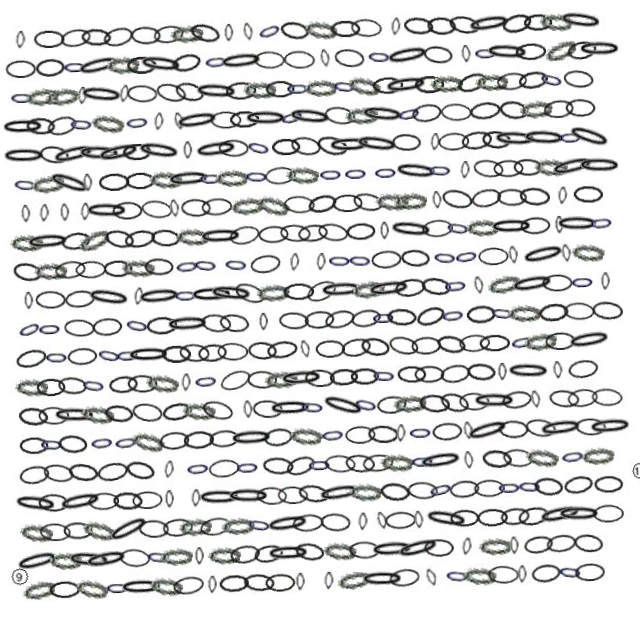chain: (98, 505, 146, 540), (571, 130, 619, 162), (50, 159, 98, 191), (316, 391, 364, 422), (460, 422, 508, 450), (84, 45, 131, 72), (6, 538, 53, 565), (387, 538, 434, 565), (56, 133, 103, 159), (101, 133, 148, 159), (554, 162, 601, 188), (522, 249, 569, 275), (416, 510, 463, 536), (567, 17, 614, 42), (393, 46, 440, 71), (141, 133, 188, 158), (86, 278, 133, 303), (51, 481, 98, 506), (530, 510, 577, 535), (146, 47, 193, 71), (359, 134, 406, 158), (510, 279, 557, 303), (565, 337, 612, 361), (6, 482, 53, 506), (75, 540, 122, 564), (551, 44, 588, 74), (78, 218, 115, 248), (293, 105, 340, 128), (476, 18, 522, 41), (86, 76, 132, 99), (181, 105, 227, 128), (366, 105, 412, 128), (398, 163, 444, 186), (391, 221, 437, 244), (209, 279, 255, 302), (413, 453, 459, 476), (311, 482, 357, 505), (258, 511, 304, 534), (201, 77, 247, 99), (391, 77, 437, 99), (199, 135, 245, 157), (367, 280, 413, 302), (534, 425, 580, 447), (58, 541, 104, 563), (233, 277, 268, 305), (305, 277, 340, 305), (227, 48, 273, 69), (493, 48, 539, 69), (498, 135, 544, 156), (527, 135, 573, 156), (216, 364, 251, 391), (259, 191, 295, 217), (126, 423, 162, 449), (74, 510, 110, 536), (82, 136, 128, 156), (137, 281, 183, 301), (197, 394, 232, 420), (354, 75, 390, 100), (582, 165, 627, 185), (487, 278, 523, 303), (504, 368, 549, 388), (49, 397, 94, 417), (584, 426, 629, 446), (12, 568, 48, 593), (162, 75, 196, 101), (463, 75, 497, 101), (321, 133, 355, 159), (414, 307, 448, 333), (435, 394, 469, 420), (279, 452, 313, 478), (65, 569, 101, 593), (327, 569, 363, 593), (586, 49, 631, 68), (250, 107, 295, 126), (171, 165, 216, 184), (88, 194, 133, 213), (28, 223, 73, 242), (558, 223, 603, 242), (320, 281, 365, 300), (165, 310, 210, 329), (277, 368, 322, 387), (469, 397, 514, 416), (225, 426, 270, 445), (220, 484, 265, 503), (550, 513, 595, 532), (362, 542, 407, 561), (444, 191, 478, 216), (198, 17, 231, 42), (181, 75, 214, 100), (106, 220, 139, 245), (386, 336, 419, 361), (119, 452, 152, 477), (111, 18, 145, 42), (457, 18, 491, 42), (355, 192, 389, 216), (319, 221, 353, 245), (323, 308, 357, 332), (13, 337, 47, 361), (7, 108, 52, 126), (7, 137, 52, 155), (333, 137, 378, 155), (201, 224, 246, 242), (492, 224, 537, 242), (190, 282, 235, 300), (125, 340, 170, 358), (265, 398, 310, 416), (191, 485, 236, 503), (258, 543, 303, 561), (110, 572, 155, 590), (351, 572, 396, 590), (97, 105, 132, 128), (288, 18, 321, 42), (510, 18, 543, 42), (52, 105, 85, 129), (310, 192, 343, 216), (13, 250, 46, 274), (434, 337, 467, 361), (520, 424, 554, 447), (313, 19, 348, 41), (52, 77, 87, 99), (35, 164, 70, 186), (352, 280, 387, 302), (522, 338, 557, 360), (143, 367, 178, 389), (77, 396, 112, 418), (520, 454, 555, 476), (12, 512, 47, 534), (140, 570, 175, 592), (179, 47, 212, 70), (330, 105, 363, 128), (295, 134, 328, 157), (477, 163, 510, 186), (474, 192, 507, 215), (231, 221, 264, 244), (358, 337, 391, 360), (128, 395, 161, 418), (37, 453, 70, 476), (91, 453, 124, 476), (291, 482, 324, 505), (505, 105, 537, 128), (421, 279, 453, 302), (200, 308, 232, 331), (339, 337, 371, 360), (62, 453, 94, 476), (557, 482, 589, 505), (286, 540, 318, 563), (69, 19, 102, 41), (570, 77, 603, 99), (144, 193, 177, 215), (126, 222, 159, 244), (251, 251, 284, 273), (591, 309, 624, 331), (437, 367, 470, 389), (415, 396, 448, 418), (545, 396, 578, 418), (13, 454, 46, 476), (192, 512, 225, 534), (510, 512, 543, 534), (163, 570, 196, 592), (265, 17, 294, 42), (15, 307, 44, 332), (33, 77, 67, 98), (526, 106, 560, 127), (234, 193, 268, 214), (573, 251, 607, 272), (285, 425, 319, 446), (315, 541, 349, 562), (342, 48, 374, 70), (431, 48, 463, 70), (575, 48, 607, 70), (44, 135, 76, 157), (63, 222, 95, 244), (218, 309, 250, 331), (350, 309, 382, 331), (100, 396, 132, 418), (158, 396, 190, 418), (373, 483, 405, 505), (527, 483, 559, 505), (245, 541, 277, 563), (515, 541, 547, 563), (565, 541, 597, 563), (545, 76, 574, 100), (250, 134, 279, 158), (162, 19, 195, 40), (466, 135, 499, 156), (522, 193, 555, 214), (177, 338, 210, 359), (565, 367, 598, 388), (497, 454, 530, 475), (549, 20, 583, 40), (539, 165, 573, 185), (379, 194, 413, 214), (123, 252, 157, 272), (257, 281, 291, 301), (262, 368, 296, 388), (179, 397, 213, 417), (375, 455, 409, 475), (576, 455, 610, 475), (214, 513, 248, 533), (454, 571, 488, 591), (360, 19, 392, 40), (412, 19, 444, 40), (525, 77, 557, 98), (476, 106, 508, 127), (282, 222, 314, 243), (56, 251, 88, 272), (395, 280, 427, 301), (265, 338, 297, 359), (14, 396, 46, 417), (498, 396, 530, 417), (564, 396, 596, 417), (53, 425, 85, 446), (257, 454, 289, 475), (319, 454, 351, 475), (339, 454, 371, 475), (476, 454, 508, 475), (111, 541, 143, 562), (221, 541, 253, 562), (234, 570, 266, 591), (380, 570, 412, 591), (418, 106, 449, 127), (487, 135, 518, 156), (402, 251, 433, 272), (246, 338, 277, 359), (55, 367, 86, 388), (464, 367, 495, 388), (259, 425, 290, 446), (313, 512, 344, 533), (538, 541, 569, 562), (522, 570, 553, 591), (390, 397, 424, 416), (285, 105, 313, 128), (123, 308, 151, 331), (94, 337, 122, 360), (349, 395, 377, 418), (421, 482, 449, 505), (292, 49, 324, 69), (134, 78, 166, 98), (504, 78, 536, 98), (447, 107, 479, 127), (287, 194, 319, 214), (500, 194, 532, 214), (300, 223, 332, 243), (65, 281, 97, 301), (63, 310, 95, 330), (278, 310, 310, 330), (563, 310, 595, 330), (302, 368, 334, 388), (588, 397, 620, 417), (363, 426, 395, 446), (571, 426, 603, 446), (203, 455, 235, 475), (357, 455, 389, 475), (250, 484, 282, 504), (271, 484, 303, 504), (401, 484, 433, 504), (32, 513, 64, 533), (131, 513, 163, 533), (180, 20, 213, 39), (115, 49, 148, 68), (154, 165, 187, 184), (291, 165, 324, 184), (179, 223, 212, 242), (13, 368, 46, 387), (343, 484, 376, 503), (172, 513, 205, 532), (152, 542, 185, 561), (90, 20, 121, 40), (436, 20, 467, 40), (32, 107, 63, 127), (550, 107, 581, 127), (153, 223, 184, 243), (386, 310, 417, 330), (538, 310, 569, 330), (196, 339, 227, 359), (106, 368, 137, 388), (249, 397, 280, 417), (373, 397, 404, 417), (106, 484, 137, 504), (443, 484, 474, 504), (493, 513, 524, 533), (402, 106, 430, 128), (447, 222, 475, 244), (262, 49, 294, 68), (269, 165, 301, 184), (155, 513, 187, 532), (285, 513, 317, 532), (251, 79, 284, 97), (312, 79, 345, 97), (438, 79, 471, 97), (483, 79, 516, 97), (352, 108, 385, 126), (220, 166, 253, 184), (398, 195, 431, 213), (13, 224, 46, 242), (469, 224, 502, 242), (36, 253, 69, 271), (508, 311, 541, 329), (508, 338, 535, 360), (78, 367, 105, 389), (239, 512, 266, 534), (41, 543, 74, 561), (200, 543, 233, 561), (471, 543, 504, 561), (140, 20, 171, 39), (572, 107, 603, 126), (224, 136, 255, 155), (397, 136, 428, 155), (184, 194, 215, 213), (205, 194, 236, 213), (425, 223, 456, 242), (373, 252, 404, 271), (36, 281, 67, 300), (304, 310, 335, 329), (216, 339, 247, 358), (458, 339, 489, 358), (125, 368, 156, 387), (35, 397, 66, 416), (456, 397, 487, 416), (155, 426, 186, 445), (179, 426, 210, 445), (205, 426, 236, 445), (428, 426, 459, 445), (494, 426, 525, 445), (32, 484, 63, 503), (341, 542, 372, 561), (479, 571, 510, 590), (44, 49, 74, 68), (518, 165, 548, 184), (577, 194, 607, 213), (146, 252, 176, 271), (92, 310, 122, 329), (466, 310, 496, 329), (66, 339, 96, 358), (245, 368, 275, 387), (395, 368, 425, 387), (56, 513, 86, 532), (416, 542, 446, 561), (210, 571, 240, 590), (339, 77, 366, 98), (194, 251, 221, 272), (455, 251, 482, 272), (489, 309, 516, 330), (137, 541, 164, 562), (435, 570, 462, 591), (548, 570, 575, 591), (43, 21, 74, 39), (14, 50, 45, 68), (524, 50, 555, 68), (233, 79, 264, 97), (380, 79, 411, 97), (217, 108, 248, 126), (444, 137, 475, 155), (103, 166, 134, 184), (498, 166, 529, 184), (336, 195, 367, 213), (261, 224, 292, 242), (523, 224, 554, 242), (77, 253, 108, 271), (480, 253, 511, 271), (284, 282, 315, 300), (543, 282, 574, 300), (146, 311, 177, 329), (478, 340, 509, 358), (544, 340, 575, 358), (412, 369, 443, 387), (341, 427, 372, 445), (82, 485, 113, 503), (126, 485, 157, 503), (468, 485, 499, 503), (378, 514, 409, 532), (470, 514, 501, 532), (586, 514, 617, 532), (40, 572, 71, 590), (256, 572, 287, 590), (340, 21, 370, 39), (533, 21, 563, 39), (135, 50, 165, 68), (273, 79, 303, 97), (422, 79, 452, 97), (236, 108, 266, 126), (128, 137, 158, 155), (277, 137, 307, 155), (130, 166, 160, 184), (116, 195, 146, 213), (349, 224, 379, 242), (105, 253, 135, 271), (160, 340, 190, 358), (314, 340, 344, 358), (410, 340, 440, 358), (34, 369, 64, 387), (327, 369, 357, 387), (348, 369, 378, 387), (296, 397, 323, 417), (15, 427, 45, 445), (588, 485, 618, 503), (443, 514, 473, 532), (566, 572, 596, 590), (375, 49, 401, 69), (17, 165, 43, 185), (176, 252, 202, 272), (225, 252, 251, 272), (349, 252, 375, 272), (434, 252, 460, 272), (440, 310, 466, 330), (369, 368, 395, 388), (109, 426, 135, 446), (555, 455, 581, 475), (212, 49, 238, 68), (75, 107, 101, 126), (131, 107, 157, 126), (432, 165, 458, 184), (191, 368, 217, 387), (85, 426, 111, 445), (316, 426, 342, 445), (180, 455, 206, 474), (511, 484, 537, 503), (249, 165, 274, 184), (592, 223, 617, 242), (329, 252, 354, 271), (444, 281, 469, 300), (43, 339, 68, 358), (35, 426, 60, 445), (71, 50, 96, 68), (482, 50, 507, 68), (17, 79, 42, 97), (293, 79, 318, 97), (564, 137, 589, 155), (203, 166, 228, 184), (323, 166, 348, 184), (348, 166, 373, 184), (378, 166, 403, 184), (174, 282, 199, 300), (571, 282, 596, 300), (37, 311, 62, 329), (371, 311, 396, 329), (114, 340, 139, 358), (404, 427, 429, 445), (230, 456, 255, 474), (302, 456, 327, 474), (405, 456, 430, 474), (491, 485, 516, 503), (96, 572, 121, 590), (416, 571, 430, 591), (298, 339, 311, 358), (369, 513, 382, 532), (252, 20, 264, 39), (328, 49, 340, 68), (126, 78, 138, 97), (180, 107, 192, 126), (474, 281, 486, 300), (527, 397, 539, 416), (158, 455, 170, 474), (453, 542, 465, 561), (400, 20, 411, 39), (160, 107, 171, 126), (173, 194, 184, 213), (291, 252, 302, 271), (510, 252, 521, 271), (563, 252, 574, 271), (134, 281, 145, 300), (459, 426, 470, 445), (561, 195, 572, 213), (25, 21, 35, 39), (470, 50, 480, 68), (85, 79, 95, 97), (436, 137, 446, 155), (465, 166, 475, 184), (43, 195, 53, 213), (84, 195, 94, 213), (436, 195, 446, 213), (318, 253, 328, 271), (179, 369, 189, 387), (551, 369, 561, 387), (240, 398, 250, 416), (392, 427, 402, 445), (459, 456, 469, 474), (185, 485, 195, 503), (351, 514, 361, 532), (407, 514, 417, 532), (315, 572, 325, 590), (234, 21, 243, 39), (189, 137, 198, 155), (88, 166, 97, 184), (25, 195, 34, 213), (64, 195, 73, 213), (383, 224, 392, 242), (558, 224, 567, 242), (25, 282, 34, 300), (602, 282, 611, 300), (259, 311, 268, 329), (496, 369, 505, 387), (159, 485, 168, 503), (187, 543, 196, 561), (502, 543, 511, 561), (199, 572, 208, 590), (287, 572, 296, 590), (509, 572, 518, 590)
noise: (1, 556, 21, 576), (625, 471, 640, 491)
